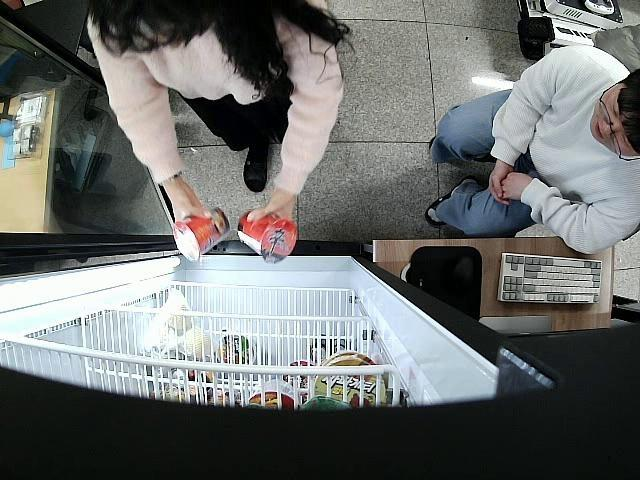02_shinRamen_S: (236, 210, 298, 264), (173, 206, 230, 262)
